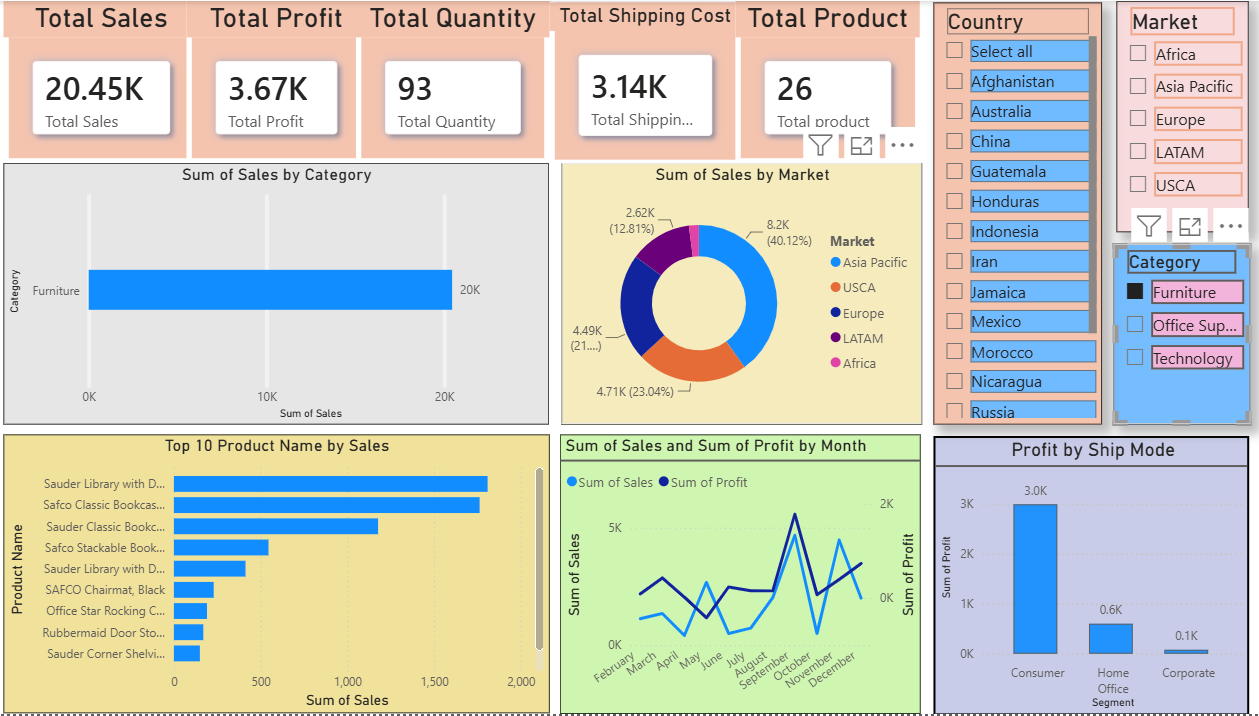

Layout of this report page (visuals, bound fields, positions):
{"tool":"powerbi","page":{"name":"Dashboard","canvas":[1280,720],"ordinal":0},"visuals":[{"type":"cardVisual","title":" Total Sales","fields":{"Data":["Sum(Global_Superstore_100.Sales)"]},"box":[11.3,0,197.5,163.5],"z":0},{"type":"cardVisual","title":" Total Profit","fields":{"Data":["Sum(Global_Superstore_100.Profit)"]},"box":[195.9,0,181.4,163.5],"z":1000},{"type":"cardVisual","title":" Total Quantity","fields":{"Data":["Sum(Global_Superstore_100.Quantity)"]},"box":[365.9,0,195.9,163.5],"z":2000},{"type":"cardVisual","title":" Total Shipping Cost","fields":{"Data":["Sum(Global_Superstore_100.Shipping Cost)"]},"box":[561.8,1.5,193.8,163.5],"z":3000},{"type":"cardVisual","title":" Total Product","fields":{"Data":["CountNonNull(Global_Superstore_100.Product ID)"]},"box":[749.5,0,186.2,163.5],"z":4000},{"type":"clusteredBarChart","fields":{"Category":["Global_Superstore_100.Category"],"Y":["Sum(Global_Superstore_100.Sales)"]},"box":[11.3,163.5,550.5,263.9],"z":5000},{"type":"donutChart","fields":{"Category":["Global_Superstore_100.Market"],"Y":["Sum(Global_Superstore_100.Sales)"]},"box":[573.2,163.5,364.3,263.9],"z":6000},{"type":"clusteredBarChart","title":"Top 10 Product Name by Sales","fields":{"Category":["Global_Superstore_100.Product Name"],"Y":["Sum(Global_Superstore_100.Sales)"]},"box":[10.6,437.6,551.2,281.6],"z":7000},{"type":"slicer","fields":{"Values":["Global_Superstore_100.Country"]},"box":[948.9,1.6,170,425.9],"z":8000},{"type":"slicer","fields":{"Values":["Global_Superstore_100.Market"]},"box":[1134.1,0,133.3,233.2],"z":9000},{"type":"columnChart","title":"Profit by Ship Mode","fields":{"Category":["Global_Superstore_100.Segment"],"Y":["Sum(Global_Superstore_100.Profit)"]},"box":[948.9,438.8,319,281.7],"z":10000},{"type":"slicer","fields":{"Values":["Global_Superstore_100.Category"]},"box":[1131.1,245.3,137.8,181.7],"z":11000},{"type":"lineChart","fields":{"Category":["Global_Superstore_100.Order Date.Variation.Date Hierarchy.Month"],"Y":["Sum(Global_Superstore_100.Sales)"],"Y2":["Sum(Global_Superstore_100.Profit)"]},"box":[573,438,364,282],"z":11001}]}

Visuals, with their boxes in screenshot pixels (x1, y1, x2, y2), scaled from the page's 1280x720 canvas onto the 1259x716 screenshot:
" Total Sales" cardVisual: pyautogui.locateOnScreen(11, 0, 205, 163)
" Total Profit" cardVisual: pyautogui.locateOnScreen(193, 0, 371, 163)
" Total Quantity" cardVisual: pyautogui.locateOnScreen(360, 0, 553, 163)
" Total Shipping Cost" cardVisual: pyautogui.locateOnScreen(553, 1, 743, 164)
" Total Product" cardVisual: pyautogui.locateOnScreen(737, 0, 920, 163)
clusteredBarChart - Global_Superstore_100.Category x Sum(Global_Superstore_100.Sales): pyautogui.locateOnScreen(11, 163, 553, 425)
donutChart - Global_Superstore_100.Market x Sum(Global_Superstore_100.Sales): pyautogui.locateOnScreen(564, 163, 922, 425)
"Top 10 Product Name by Sales" clusteredBarChart: pyautogui.locateOnScreen(10, 435, 553, 715)
slicer - Global_Superstore_100.Country: pyautogui.locateOnScreen(933, 2, 1101, 425)
slicer - Global_Superstore_100.Market: pyautogui.locateOnScreen(1115, 0, 1247, 232)
"Profit by Ship Mode" columnChart: pyautogui.locateOnScreen(933, 436, 1247, 715)
slicer - Global_Superstore_100.Category: pyautogui.locateOnScreen(1113, 244, 1248, 425)
lineChart - Global_Superstore_100.Order Date.Variation.Date Hierarchy.Month x Sum(Global_Superstore_100.Sales): pyautogui.locateOnScreen(564, 436, 922, 715)
